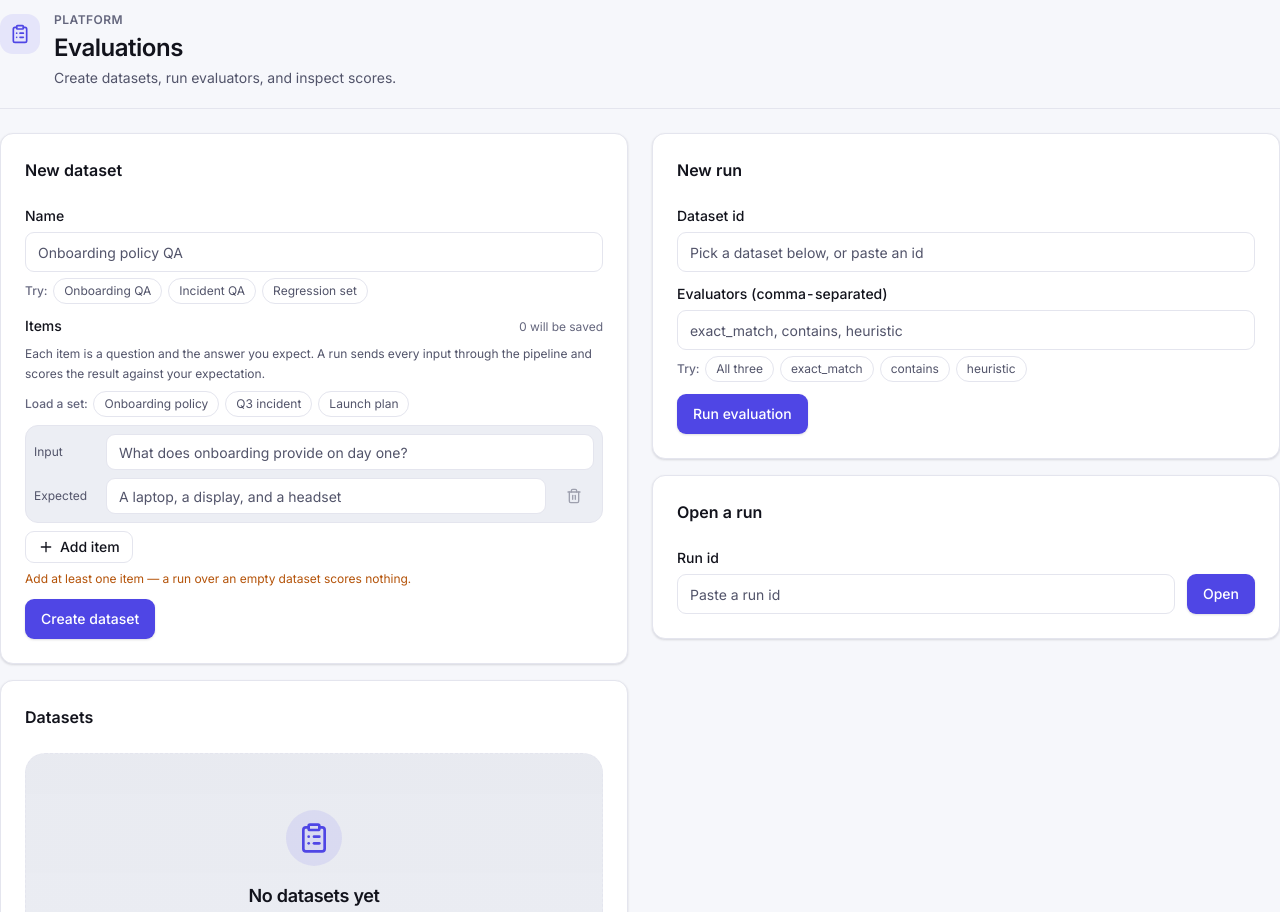
Test: EvaluationsView (MSW) › selects the newly created dataset for the run form
The image size is (1280, 912).
In the field with test id "dataset-name": point(314, 252) [25,232,603,272], type "n"
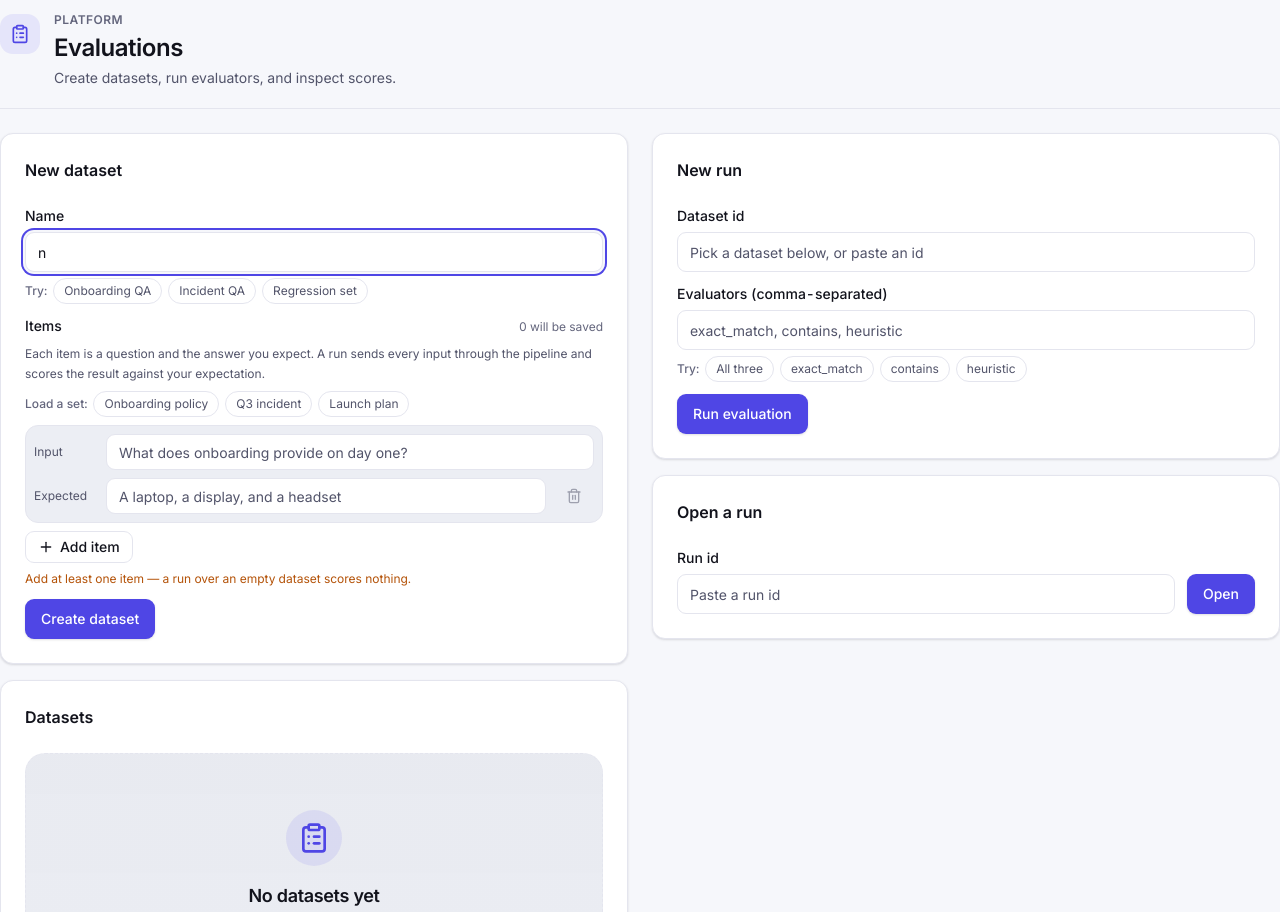
In the field with test id "dataset-item-input-0": point(350, 452) [106,434,594,470], type "q"
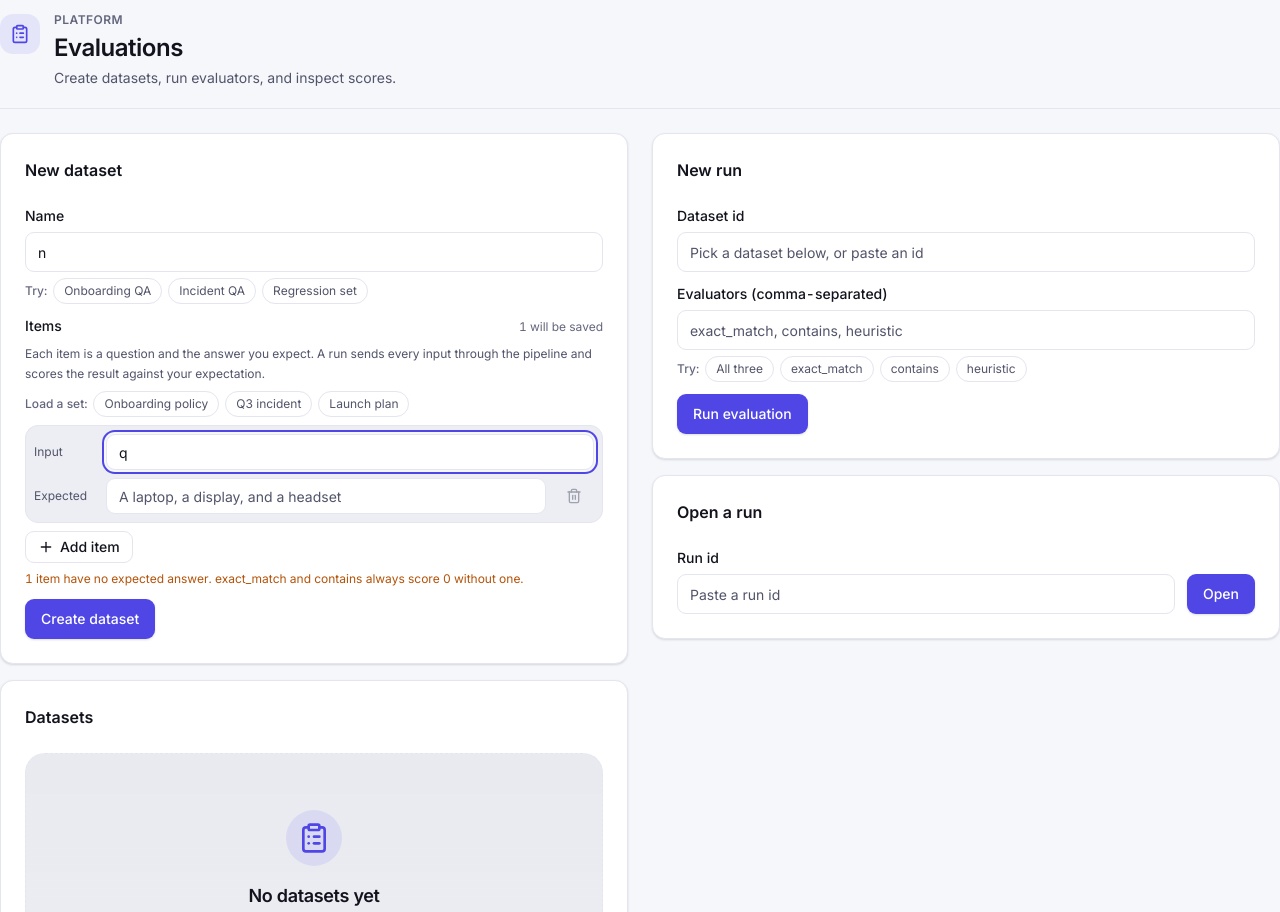
Click the button with test id "create-dataset-submit": point(90, 619) [25,599,155,639]
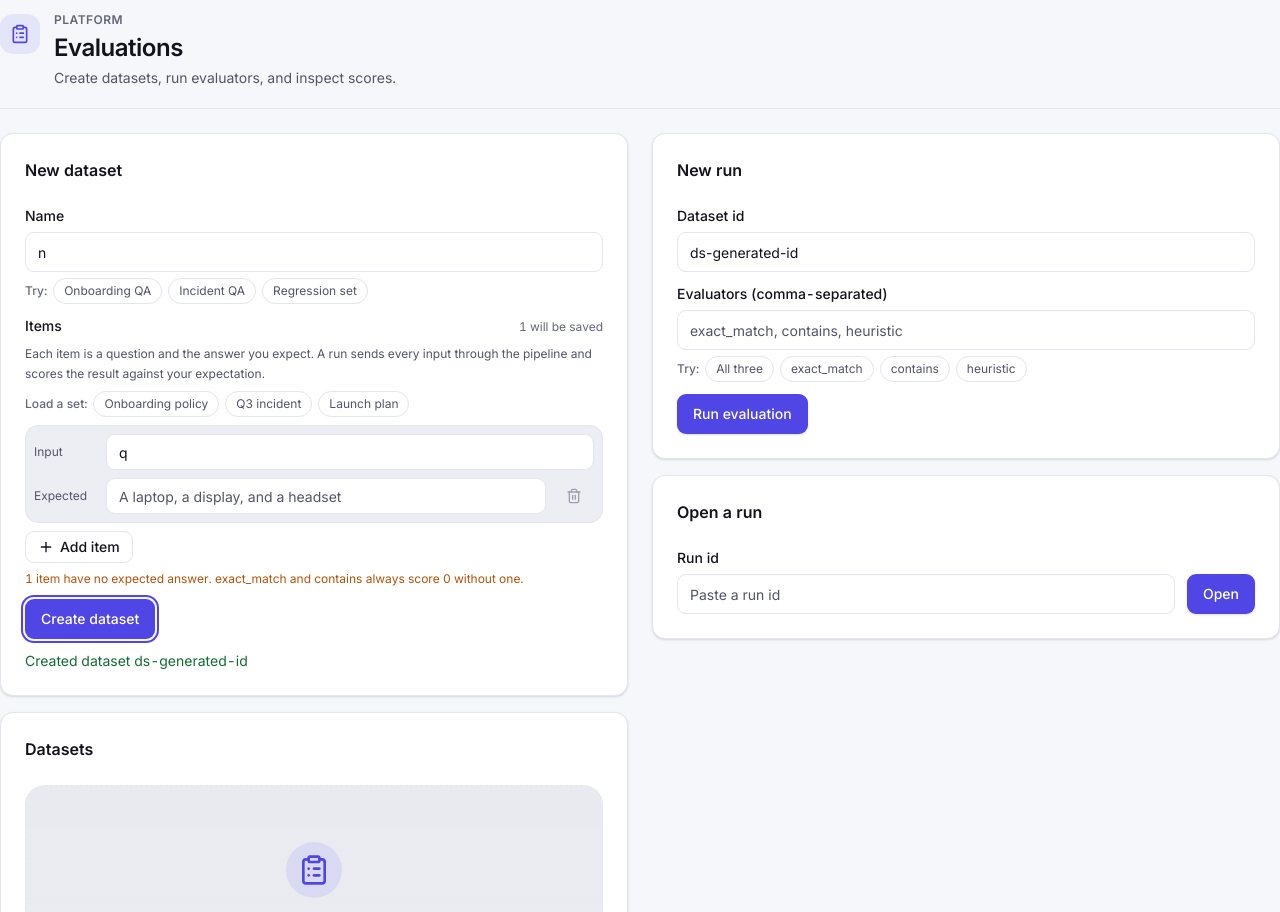
Expected: the field with test id "run-dataset-id" holds "ds-generated-id", [677,232,1255,272]
